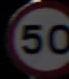Speed limit: (6, 3, 66, 70)
